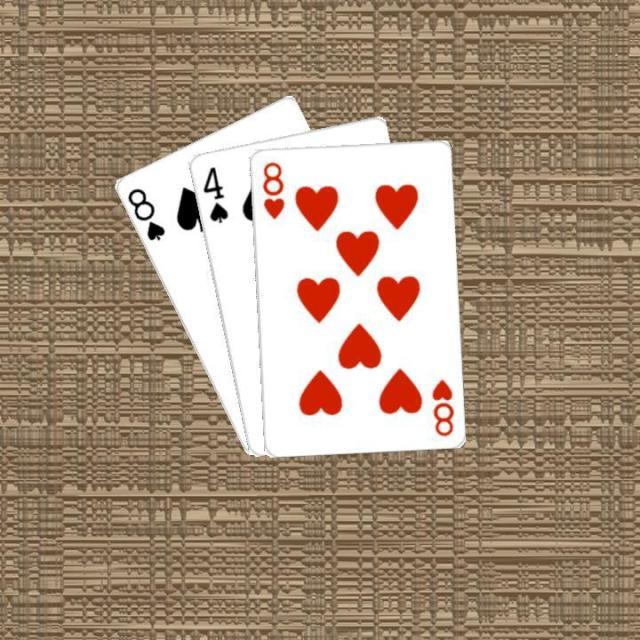4S: (198, 162, 230, 225)
8H: (258, 158, 286, 222), (428, 375, 455, 437)
8S: (123, 184, 167, 243)
